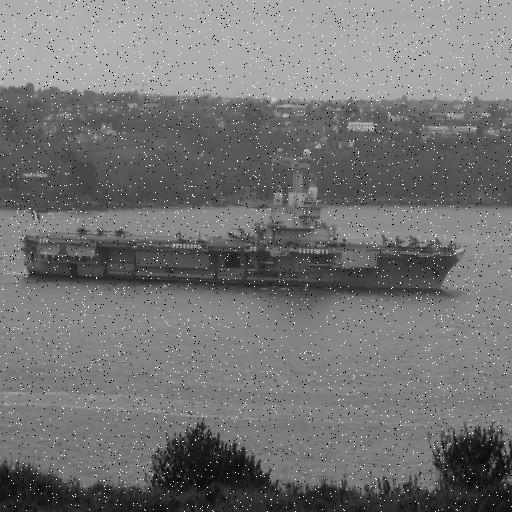Portanaves: (18, 119, 470, 295)
